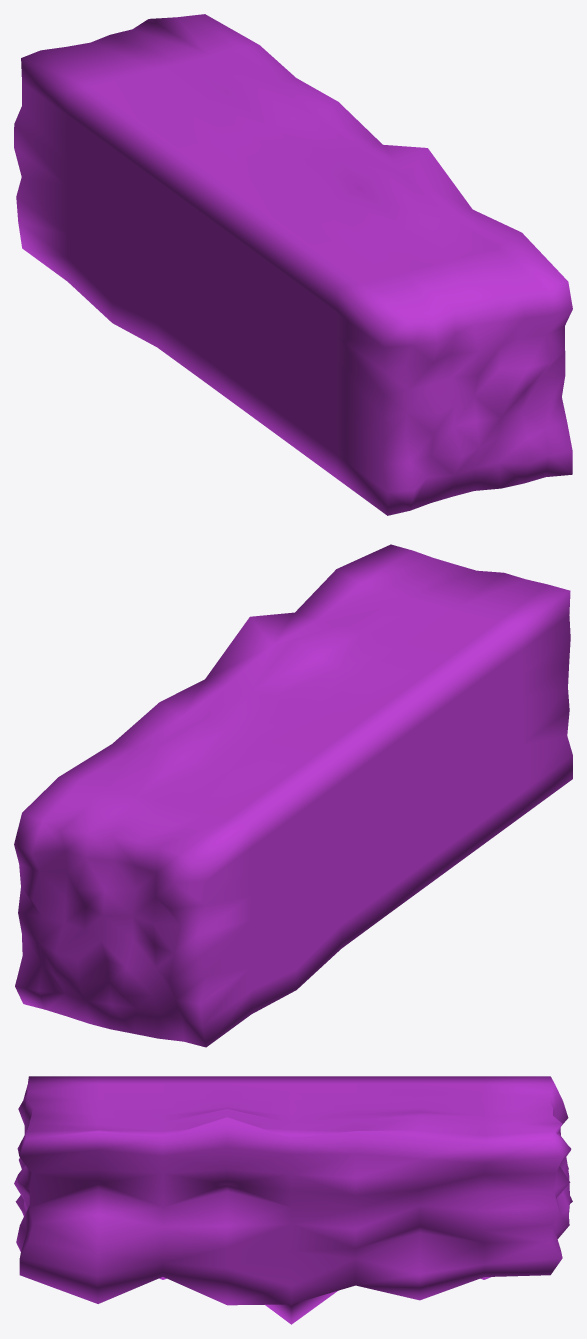
The model's file is Platform.fbx.
The picture shows the model from 3 angles, top to bottom: view 1: azimuth 30°, elevation 25°; view 2: azimuth 150°, elevation 25°; view 3: azimuth 270°, elevation 25°; orthographic projection. The views are drawn at different scales.
Visible parts, largest first — view 1: Cube; view 2: Cube; view 3: Cube.
Part boxes in pixels (left/top/right/bottom): Cube: left=14, top=14, right=572, bottom=515; Cube: left=14, top=544, right=572, bottom=1047; Cube: left=14, top=1076, right=572, bottom=1324.
Size of the model in its own units: 2.24 by 3.18 by 7.46.
